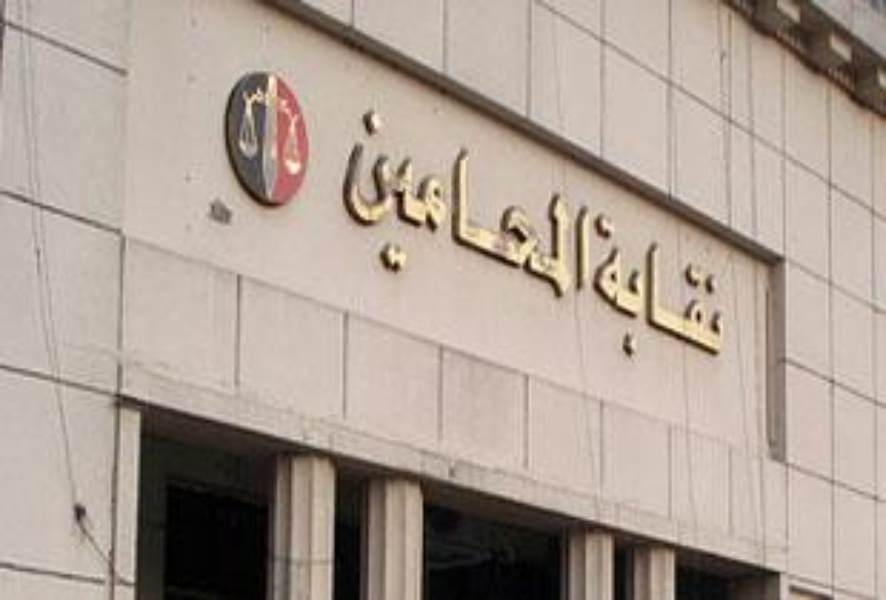text: (353, 101, 368, 309), (369, 101, 384, 309), (385, 101, 400, 309), (401, 101, 416, 309), (417, 101, 432, 309), (433, 101, 448, 309), (449, 101, 464, 309), (465, 101, 480, 309), (481, 101, 496, 309), (497, 101, 512, 309), (513, 101, 528, 309), (529, 101, 544, 309), (545, 101, 560, 309), (561, 101, 576, 309), (577, 101, 592, 309), (593, 209, 608, 378), (609, 209, 624, 378), (625, 209, 640, 378), (641, 209, 656, 378), (657, 209, 672, 378), (673, 209, 688, 378), (689, 209, 704, 378), (705, 209, 720, 378), (721, 209, 735, 378), (593, 101, 598, 309), (349, 101, 352, 309)
